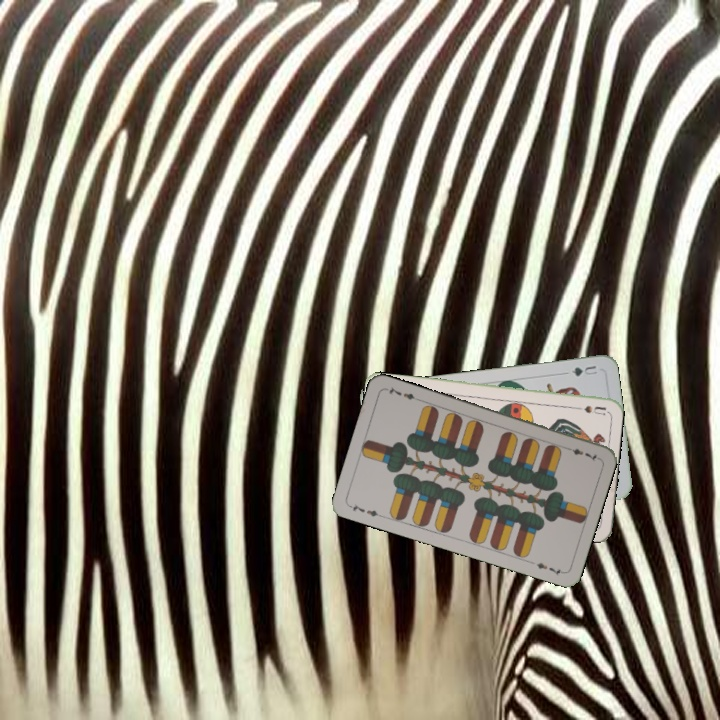E7: (561, 443, 601, 464), (345, 500, 385, 520)
GU: (568, 361, 600, 379)
SU: (567, 401, 608, 417)
